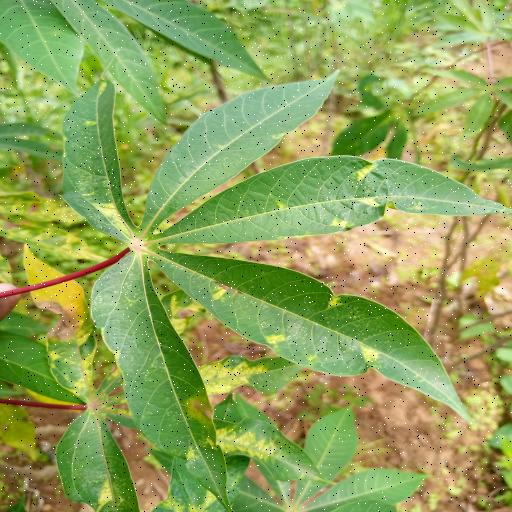Cassava_Mosaic: (57, 74, 512, 509)
